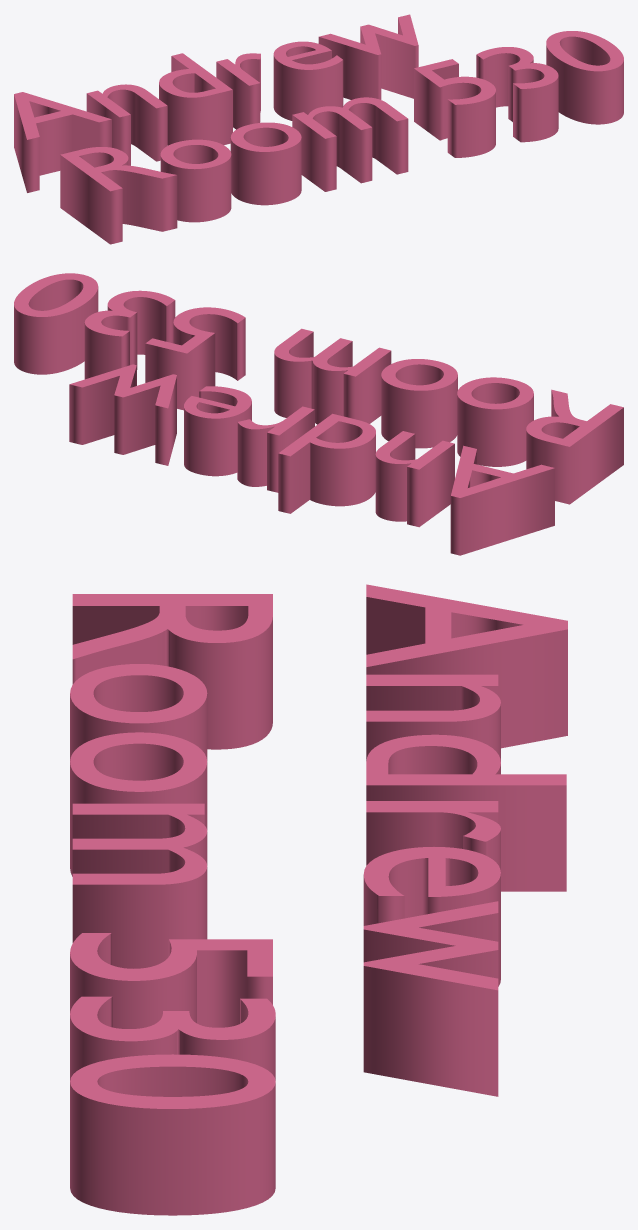
File: andrew-530.gltf
The picture shows the model from 3 angles, top to bottom: view 1: azimuth 30°, elevation 25°; view 2: azimuth 150°, elevation 25°; view 3: azimuth 270°, elevation 25°; orthographic projection. The views are drawn at different scales.
Visible parts, largest first — view 1: Text; view 2: Text; view 3: Text.
Part boxes in pixels (x1,y1,x2,y2): Text: (14, 14, 623, 244); Text: (14, 273, 623, 555); Text: (70, 584, 567, 1215).
Size of the model in its own units: 4.23 by 0.4 by 1.69.
